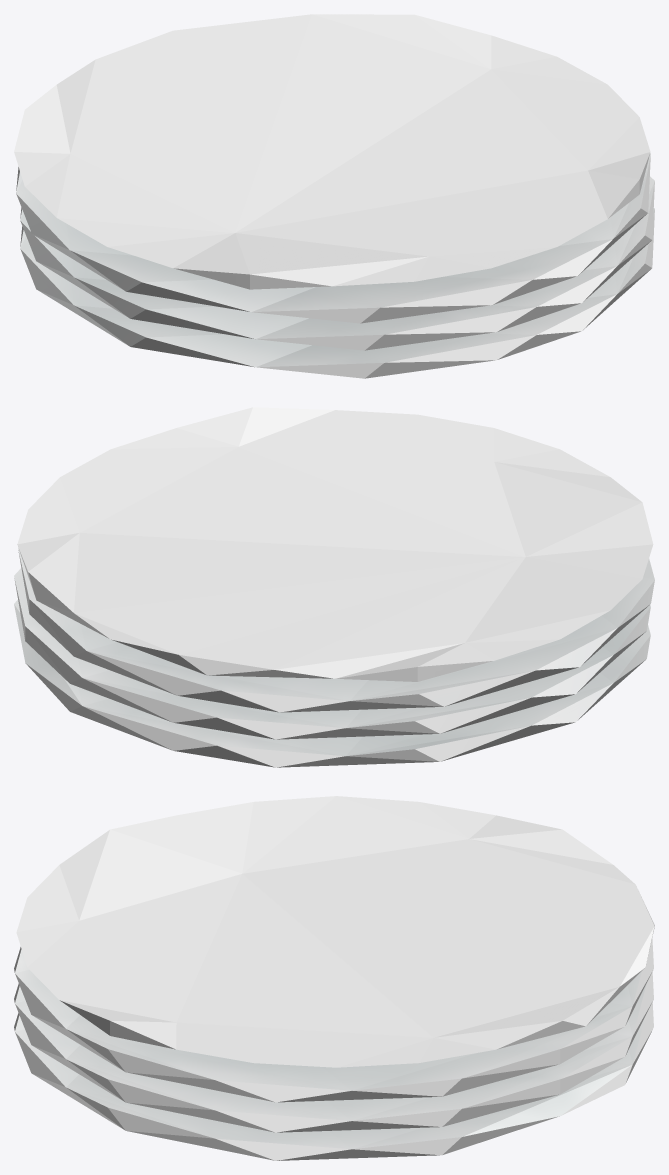
Rendered from dish2_2b.dae.
3 renders of one model, top to bottom at view 1: azimuth 30°, elevation 25°; view 2: azimuth 150°, elevation 25°; view 3: azimuth 270°, elevation 25°, orthographic.
Visible parts, largest first — view 1: node; view 2: node; view 3: node.
Boxes of the visible parts, x1,y1,x2,y2 form: node: (14, 14, 654, 378); node: (14, 407, 654, 767); node: (14, 796, 654, 1160).
Bounding box in the file's own units: 0.2676 × 0.06 × 0.2675.
1 material, 1 textured.
